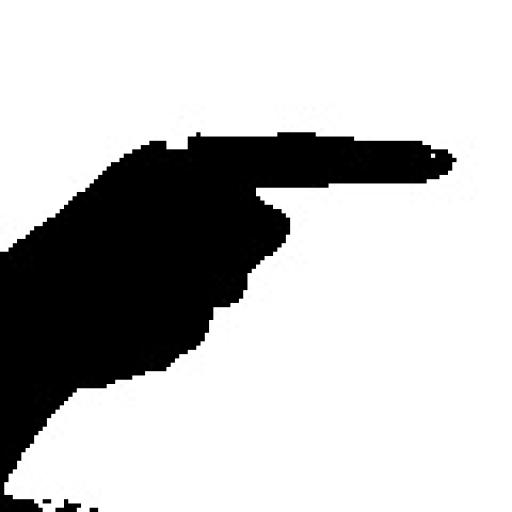index_right: (0, 130, 458, 341)
